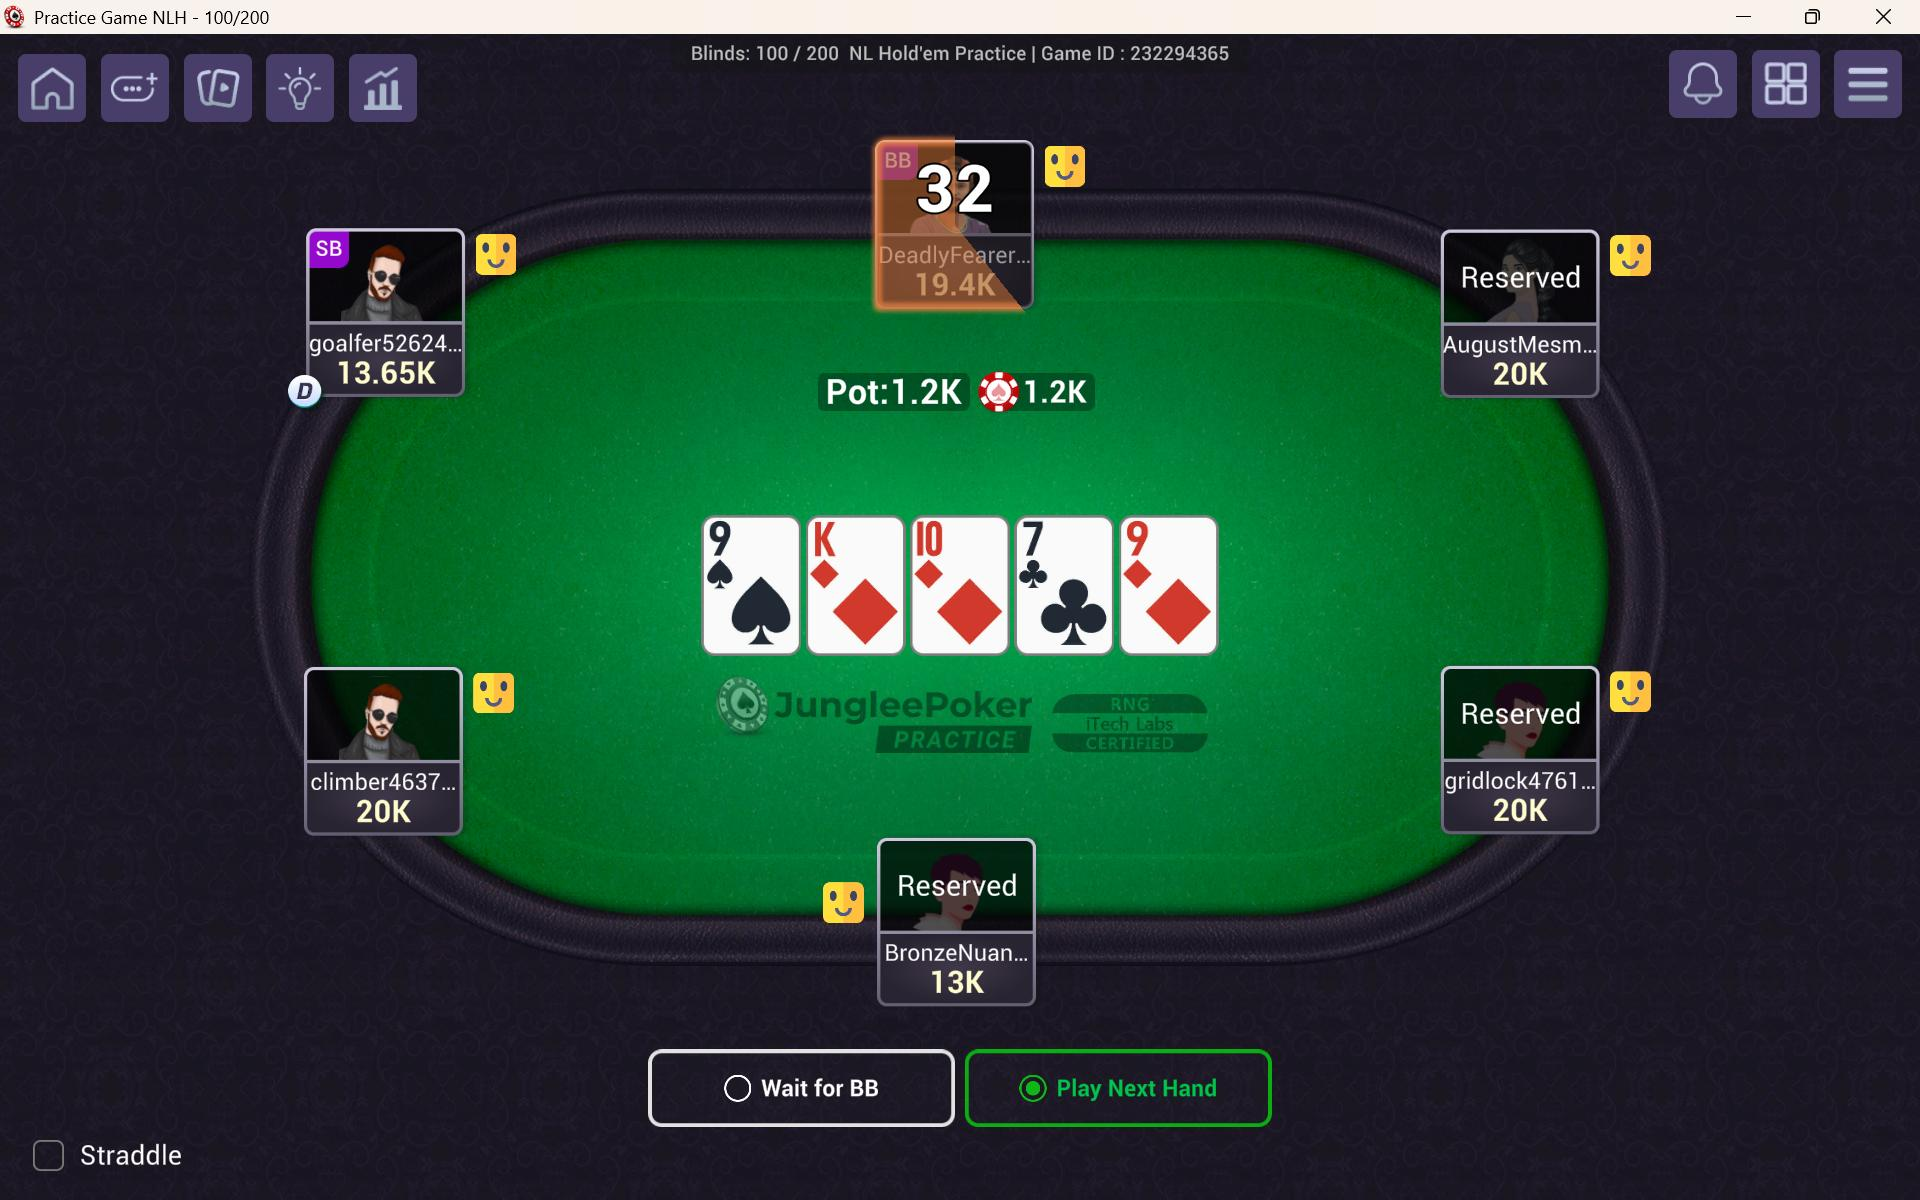flop1_rank: (702, 513, 763, 557)
flop1_suite_spades: (715, 570, 800, 653)
flop2_rank: (807, 516, 868, 563)
flop2_suite_diamond: (825, 567, 900, 653)
flop3_rank: (910, 517, 973, 563)
flop3_suite_diamond: (937, 567, 1008, 653)
game_id: (1035, 43, 1240, 71)
my_stack: (905, 962, 999, 1002)
position_BB: (881, 145, 925, 180)
position_SB: (307, 229, 352, 265)
river_rank: (1116, 517, 1163, 567)
river_suite_diamond: (1140, 575, 1218, 653)
total_pot: (820, 372, 1104, 415)
turn_rank: (1015, 516, 1060, 567)
turn_suite_club: (1030, 575, 1110, 650)
villian1_name: (312, 765, 452, 795)
villian1_stack: (347, 792, 435, 832)
villian2_name: (305, 330, 467, 358)
villian2_stack: (333, 358, 458, 390)
villian3_name: (878, 235, 1030, 267)
villian3_stack: (894, 267, 1010, 303)
villian4_name: (1444, 330, 1601, 359)
villian4_stack: (1478, 358, 1568, 398)
villian5_name: (1443, 767, 1601, 795)
villian5_stack: (1475, 795, 1568, 829)
